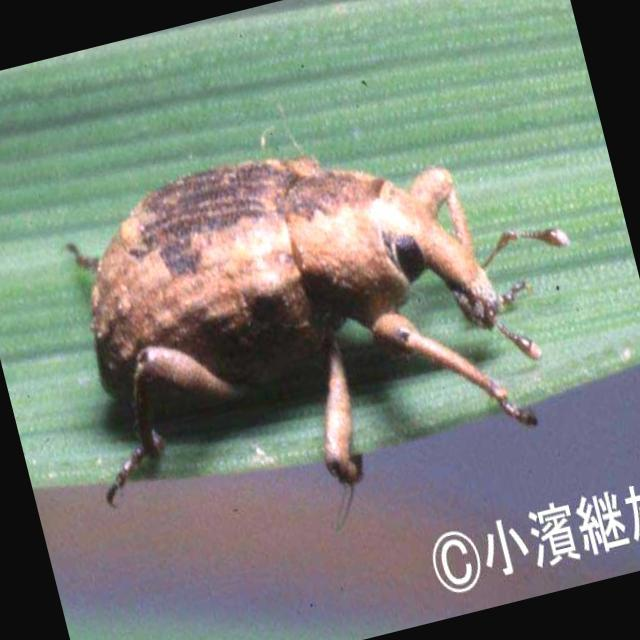ricebug: (78, 158, 535, 499)
